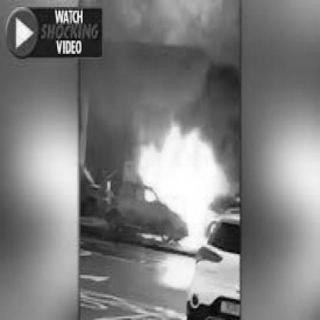Fire: (128, 111, 228, 255)
